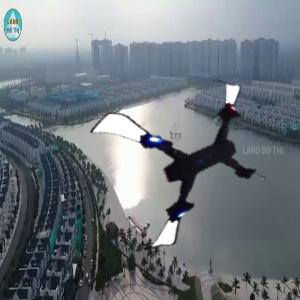drone: (101, 88, 266, 253)
